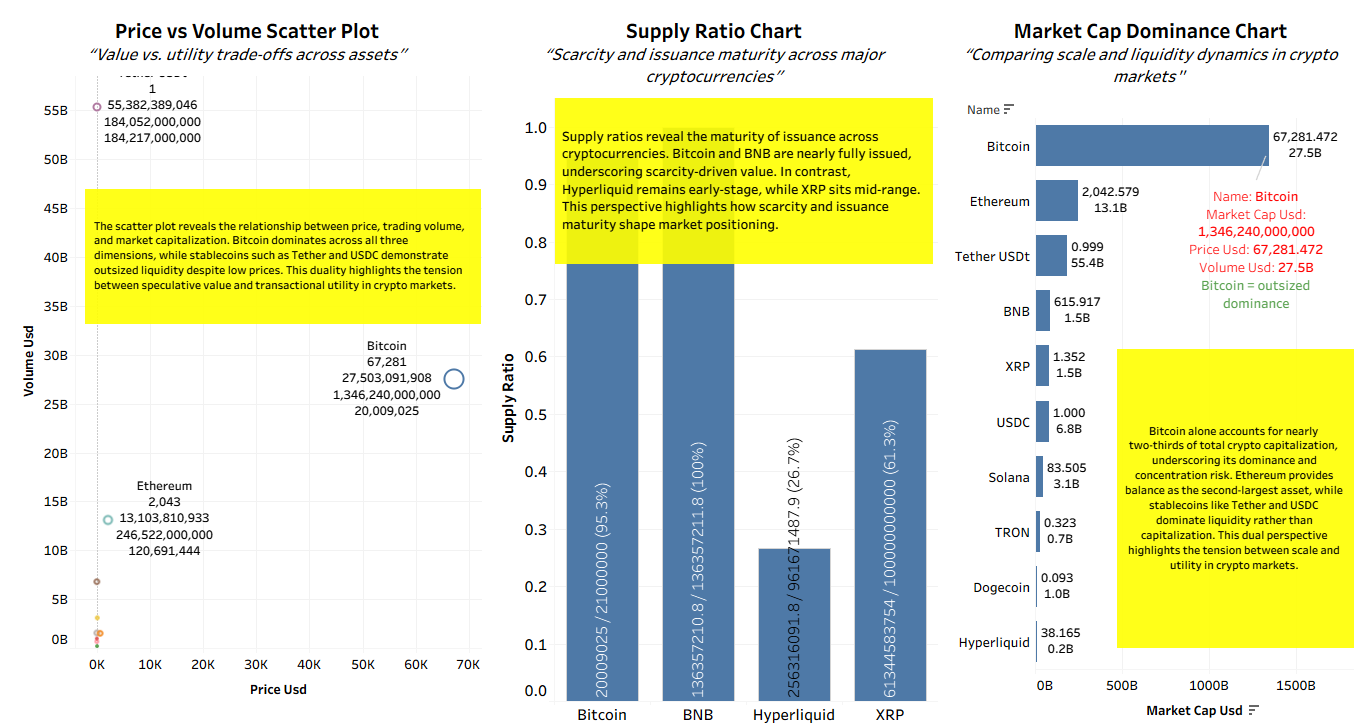

What the dashboard file says about the page in this screenshot:
{"tool":"tableau","page":{"name":"Dashboard 1","canvas":[1000,1000],"units":"permille","ordinal":0},"visuals":[{"type":"worksheet","title":"- Price vs Volume","mark":"Automatic","rows":["volume_usd"],"cols":["price_usd"],"box":[6.9,13.7,349.5,972.6]},{"type":"worksheet","title":"Supply Ratio","mark":"Automatic","rows":["Calculation_1215564371812352"],"cols":["name"],"box":[356.4,13.7,333.4,972.6]},{"type":"worksheet","title":"- Market Cap Dominance","mark":"Automatic","rows":["name"],"cols":["market_cap_usd"],"box":[689.8,13.7,303.2,972.6]}]}

Visuals, with their boxes on the dashboard's canvas, which has no fixed pixel size, in thousandths of its width and height (x1, y1, x2, y2). These are canvas units, not pixel positions in the 1365x728 screenshot, which may show the page scaled, cropped or inside an application window:
"- Price vs Volume" worksheet: [left=7, top=14, right=356, bottom=986]
"Supply Ratio" worksheet: [left=356, top=14, right=690, bottom=986]
"- Market Cap Dominance" worksheet: [left=690, top=14, right=993, bottom=986]
